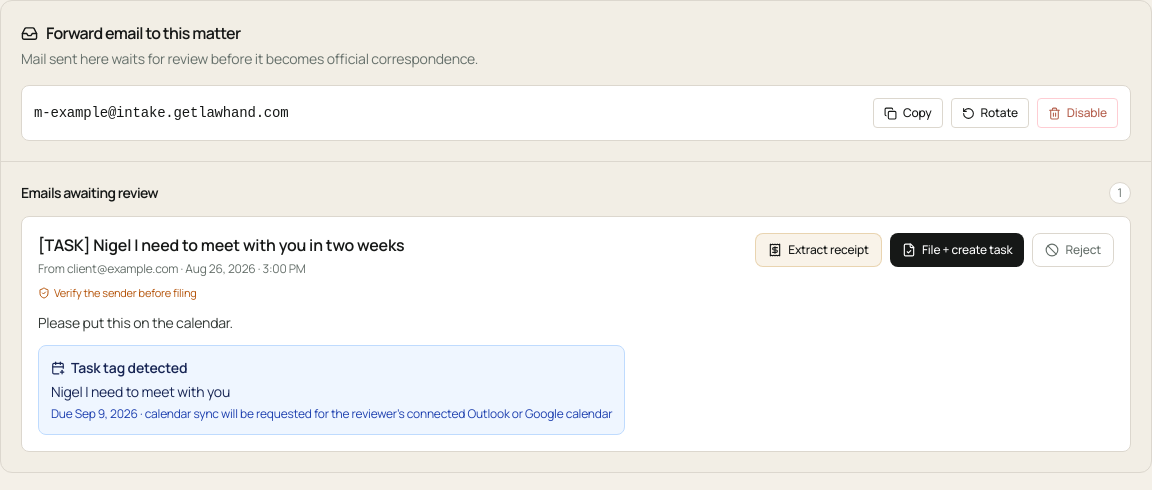
Test: InboundEmailPanel subject-tag review › previews and confirms the task/calendar effect before filing
Expected: the text "Task tag detected" is shown, [51,358,187,377]
Expected: the text "Nigel I need to meet with you" is shown, [51,382,230,401]
Click the button "File + create task" at [957, 250], box [890,233,1024,267]
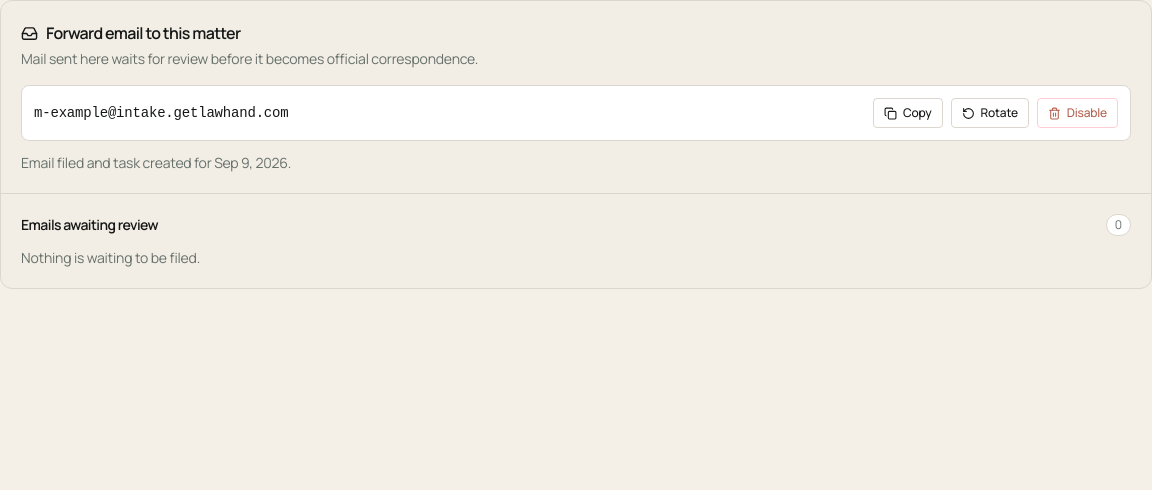
Expected: the text "Email filed and task created for Sep 9, 2026." is shown, [21,153,291,172]
